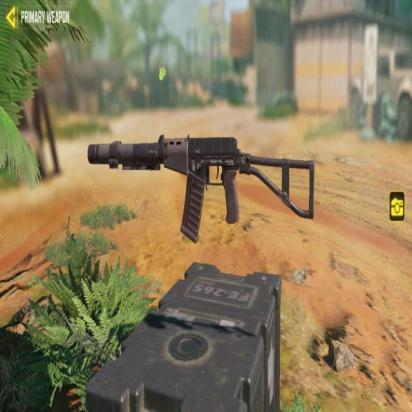Gun: (78, 124, 316, 236)
